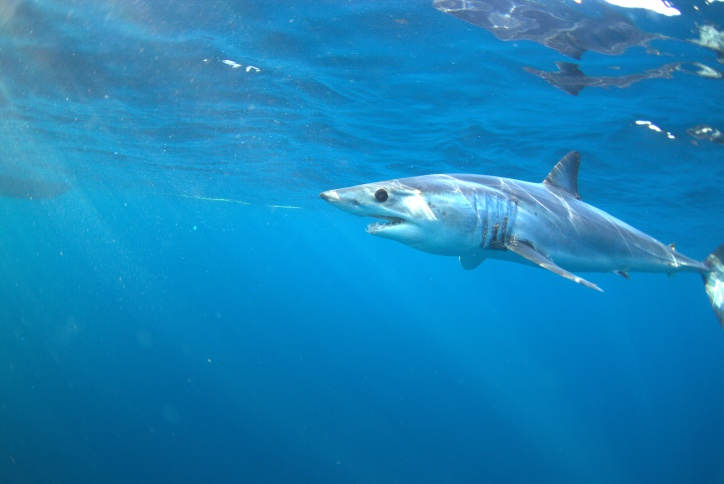Mako: (305, 148, 724, 339)
